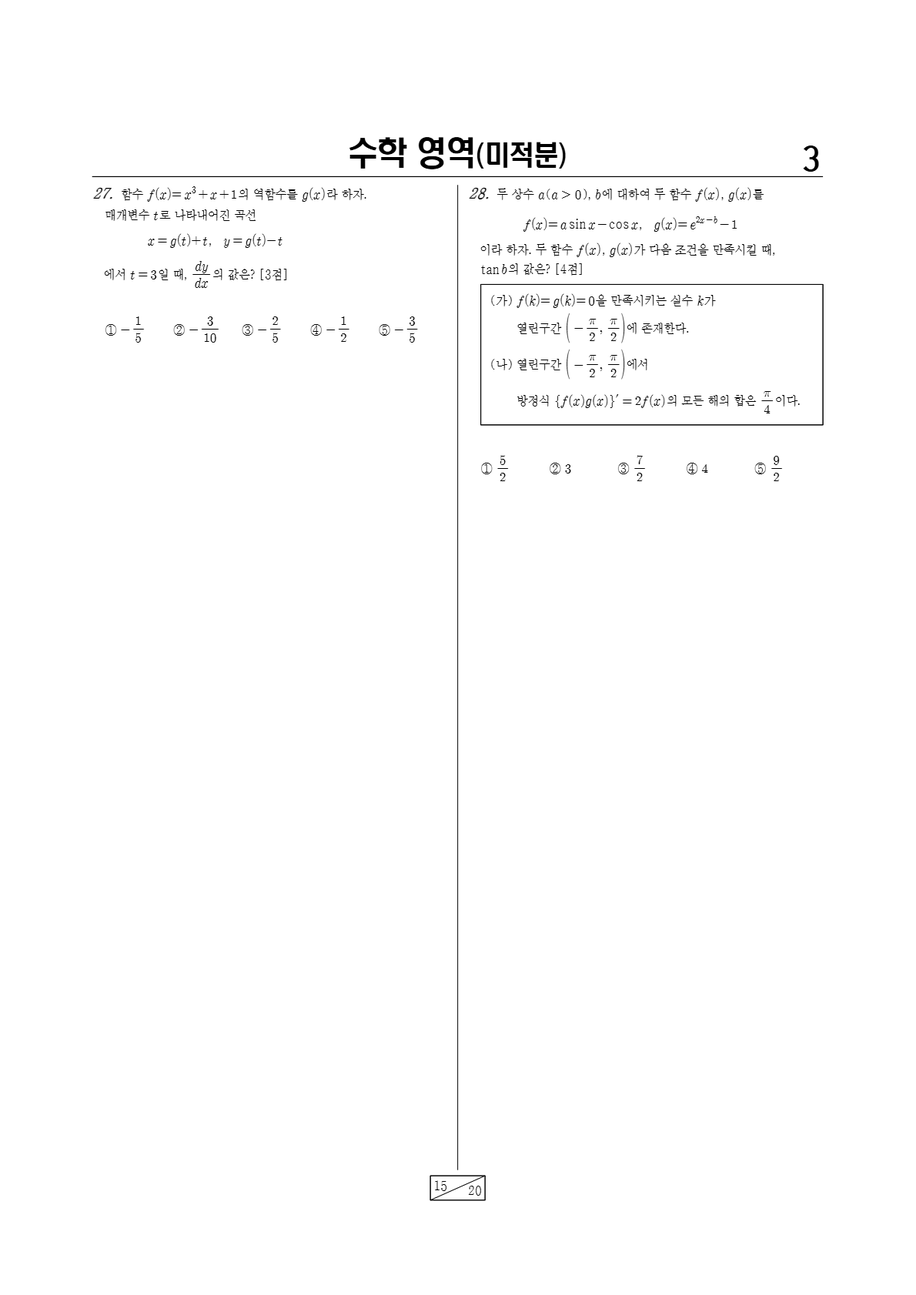opt_1: (104, 323, 118, 336), (480, 461, 492, 474)
opt_2: (549, 461, 561, 475), (173, 323, 185, 336)
opt_3: (242, 323, 254, 336), (617, 461, 629, 474)
opt_4: (309, 323, 323, 336), (687, 460, 697, 474)
opt_5: (754, 461, 766, 474), (379, 323, 390, 336)
